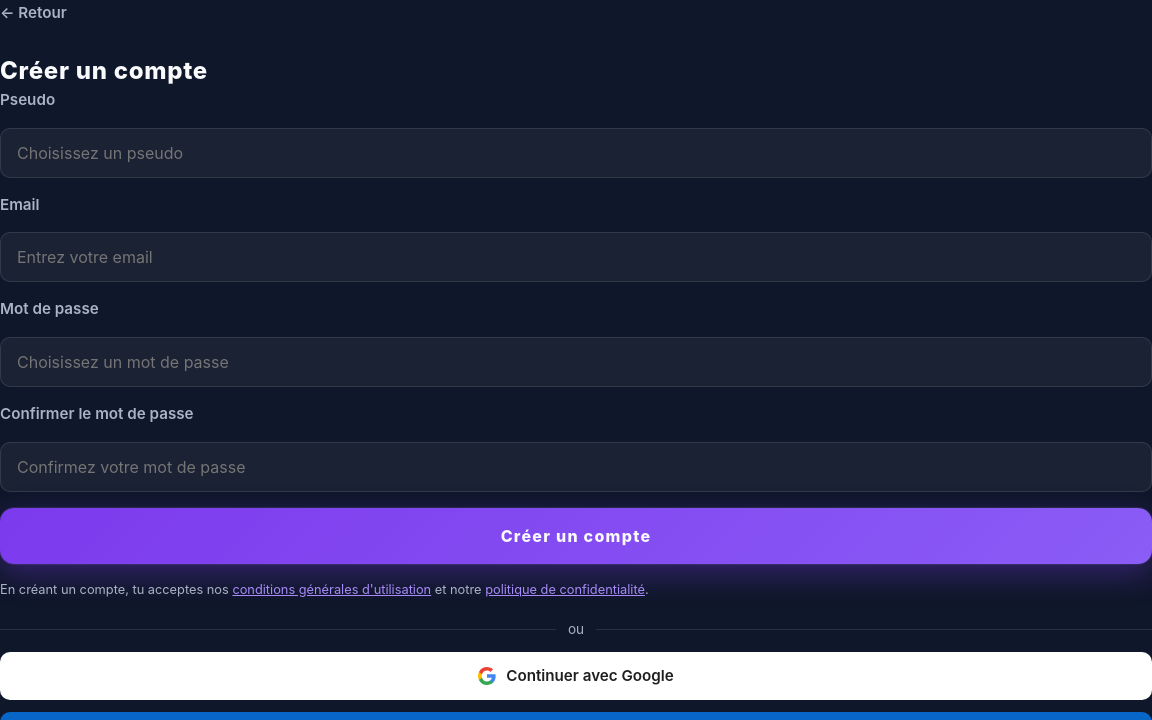
Scenario: RegisterForm › affiche une erreur si les mots de passe ne correspondent pas
The width and height of the screenshot is (1152, 720).
Type "joueur1" into the field labelled "Pseudo". click: (576, 153)
box: [0,128,1151,178]
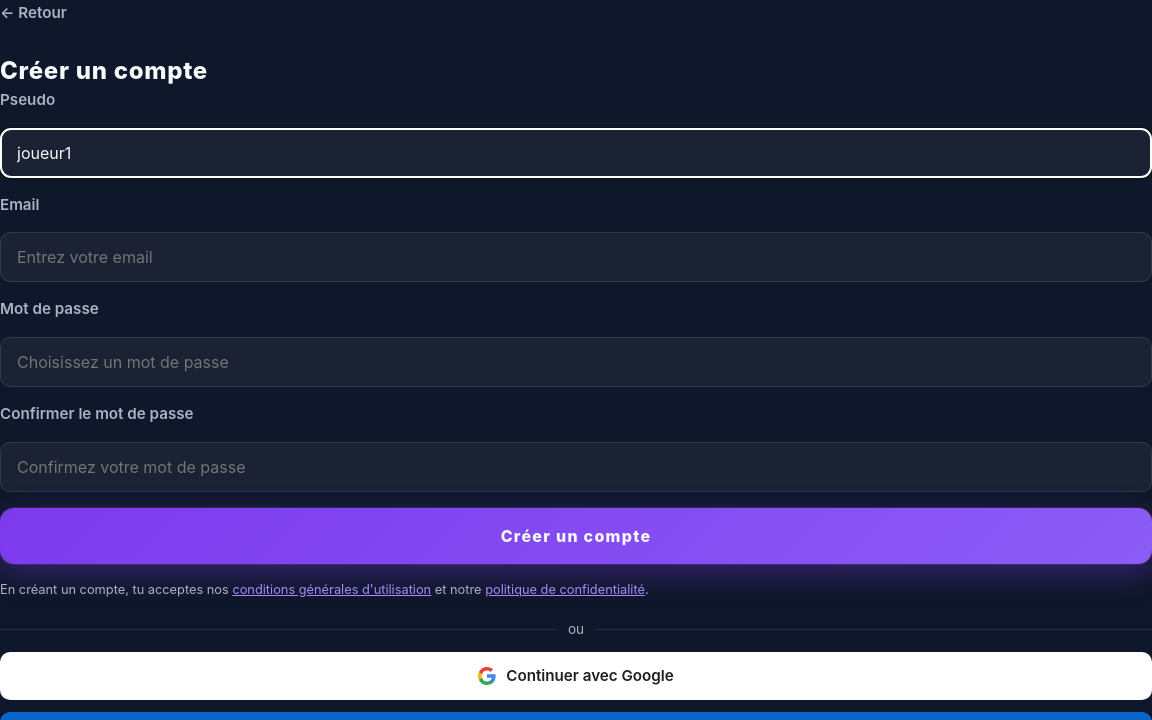
Type "joueur1@lexora.fr" into the field labelled "Email". click: (576, 257)
box: [0,232,1151,282]
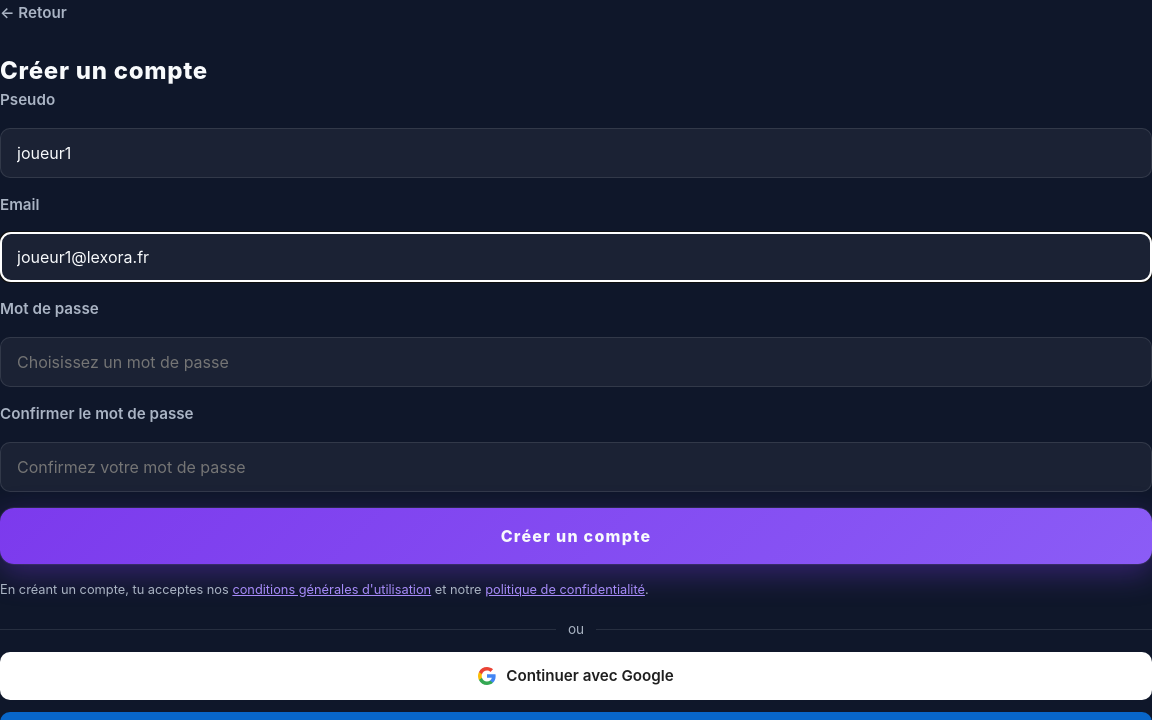
Type "motdepasse123" into the password field labelled "Mot de passe". click: (576, 362)
box: [0,337,1151,387]
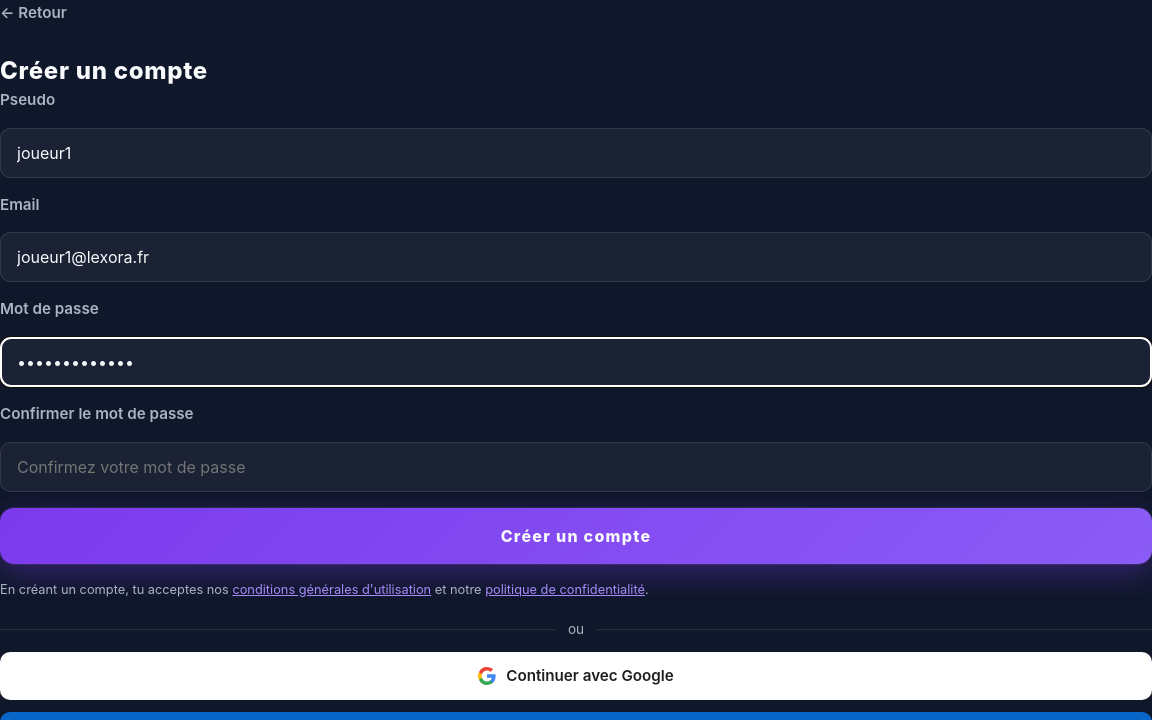
Type "autrechose" into the password field labelled "Confirmer le mot de passe". click: (576, 467)
box: [0,442,1151,492]
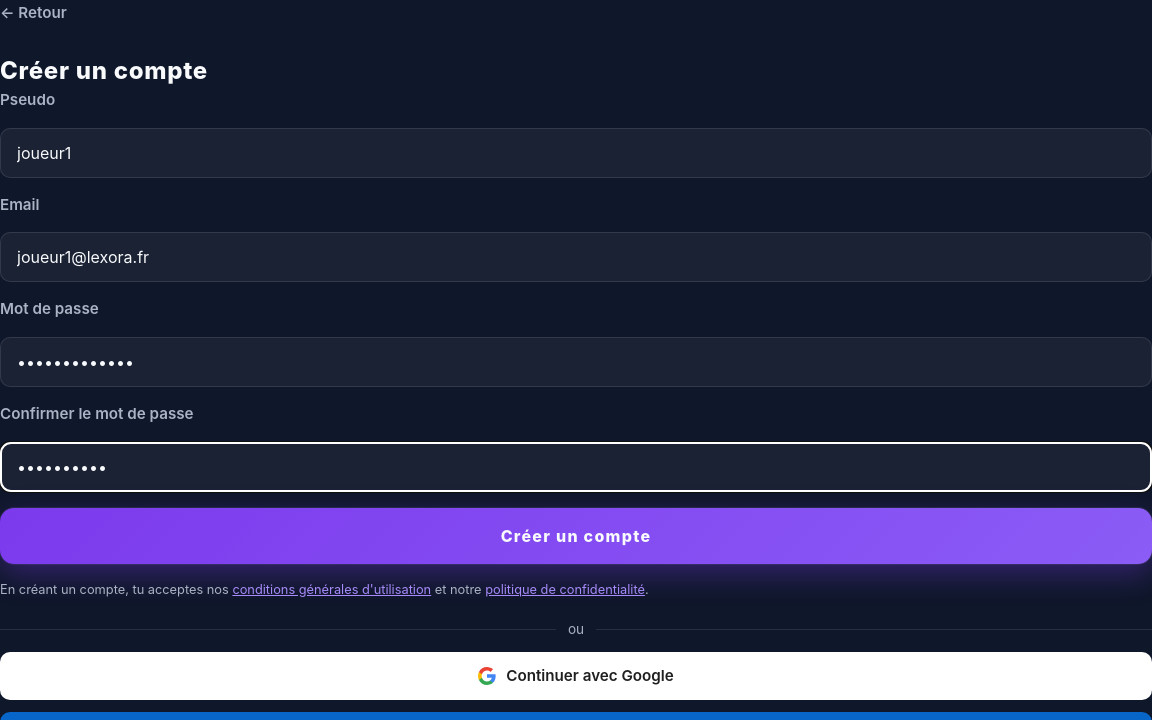
Click the button "Créer un compte". click: (576, 536)
box: [0,508,1151,564]
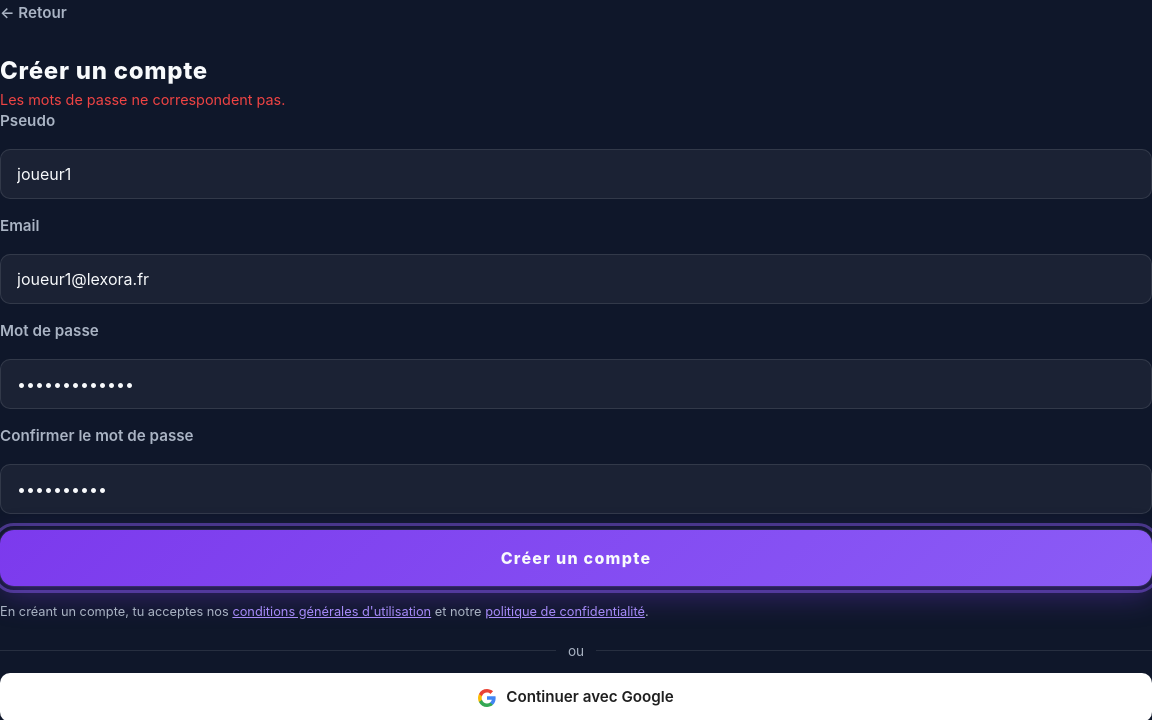
Expected: the message reads "Les mots de passe ne correspondent pas.", [0,91,285,108]
